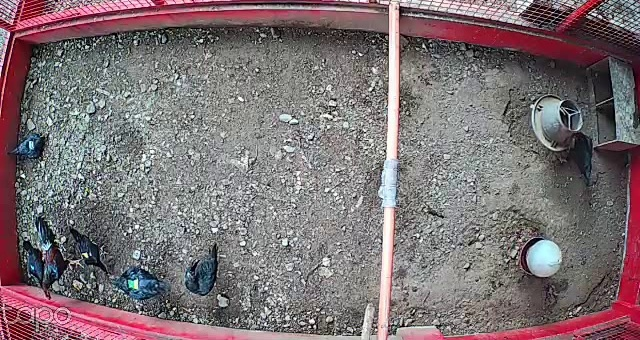Chicken: (108, 264, 175, 303), (66, 224, 112, 276), (182, 241, 225, 296), (557, 130, 596, 188), (6, 129, 52, 162), (20, 238, 45, 296)
Rooster: (32, 215, 86, 300)
Saddle_Color_Blue: (30, 265, 35, 270)
Saddle_Color_Yellow: (82, 250, 93, 260)
Saddle_Color_YellowGreen: (127, 278, 137, 289)
